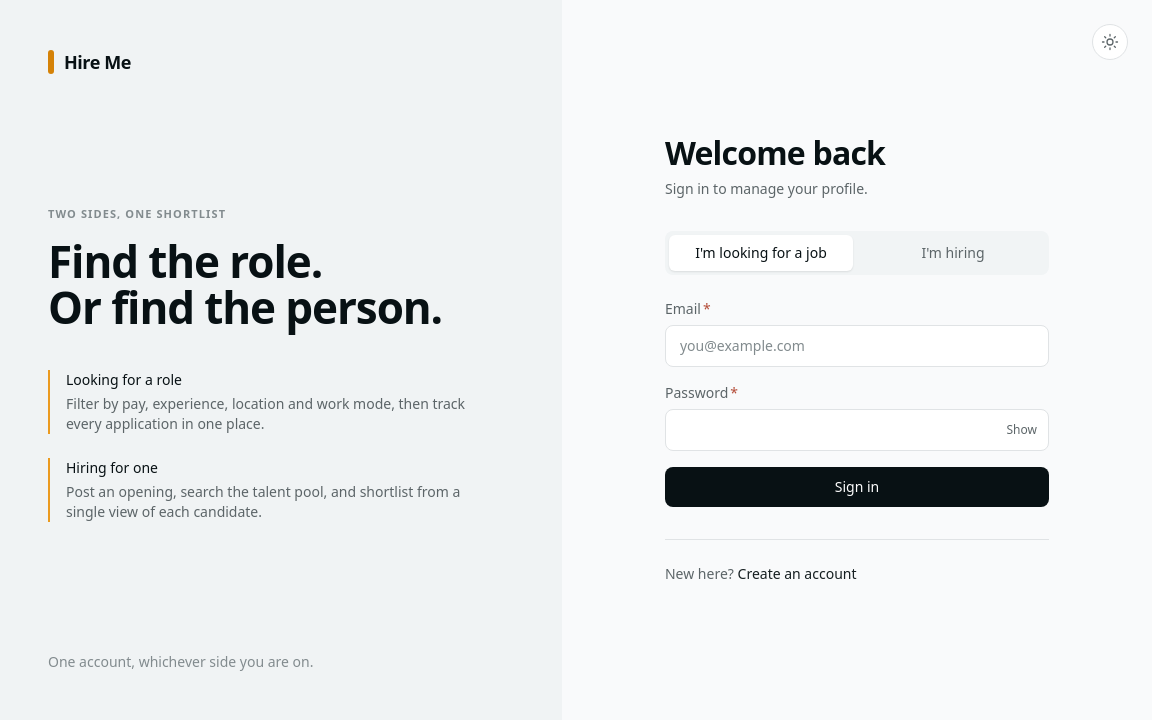
Scenario: sign-in screen › clears a failed attempt when the account type is switched
Check: the heading "Welcome back" is shown, box [665,130,885,174]
In the field labelled "Email*": (857, 346) [665,324,1049,366], type "grace@acme.test"
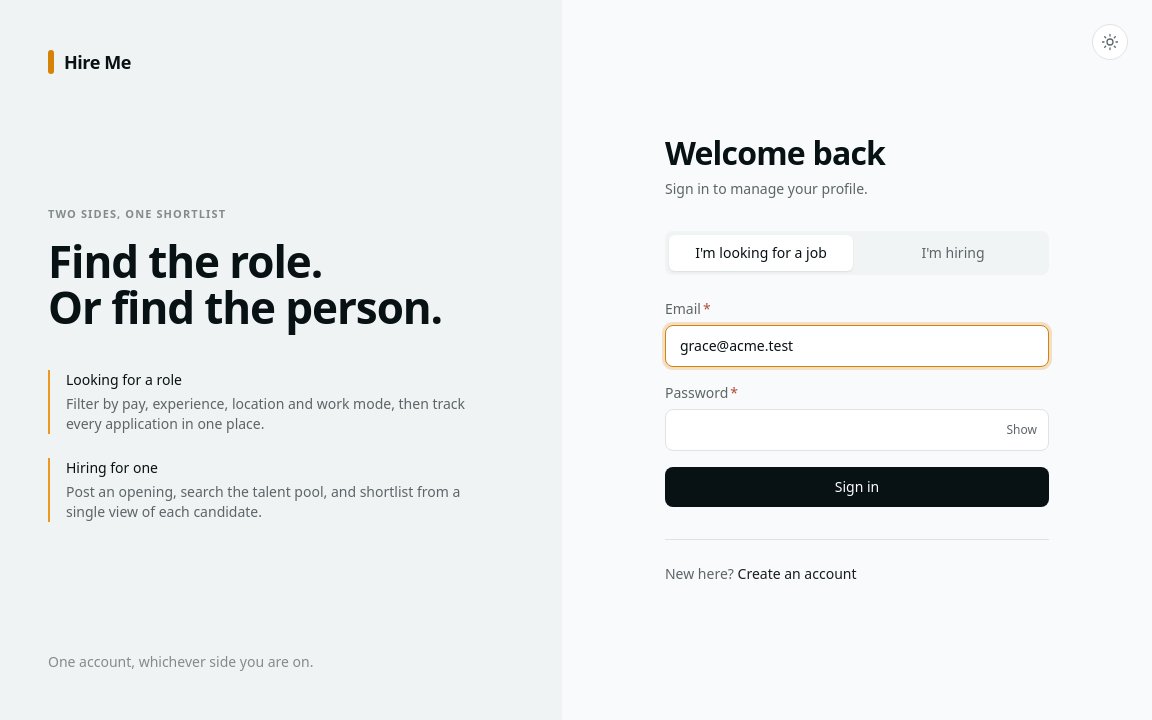
In the password field labelled "Password*": (857, 430) [665,408,1049,450], type "Str0ng!pass"
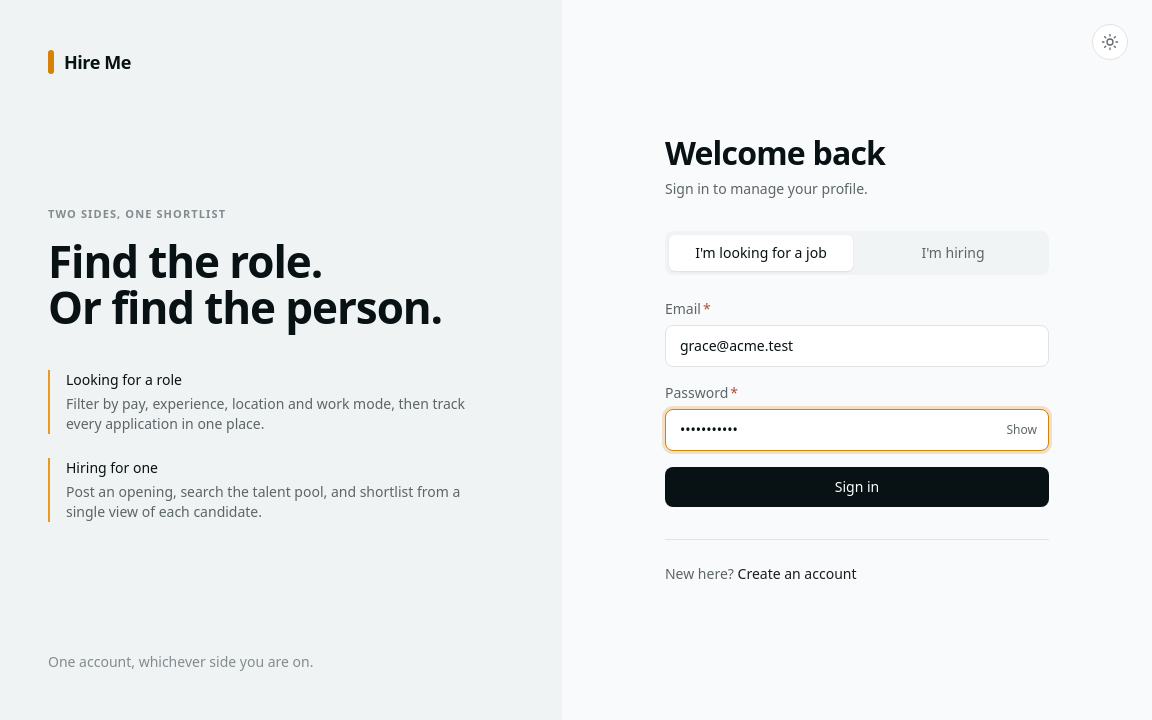
Click the button "Sign in": click(857, 486) [665,466,1049,506]
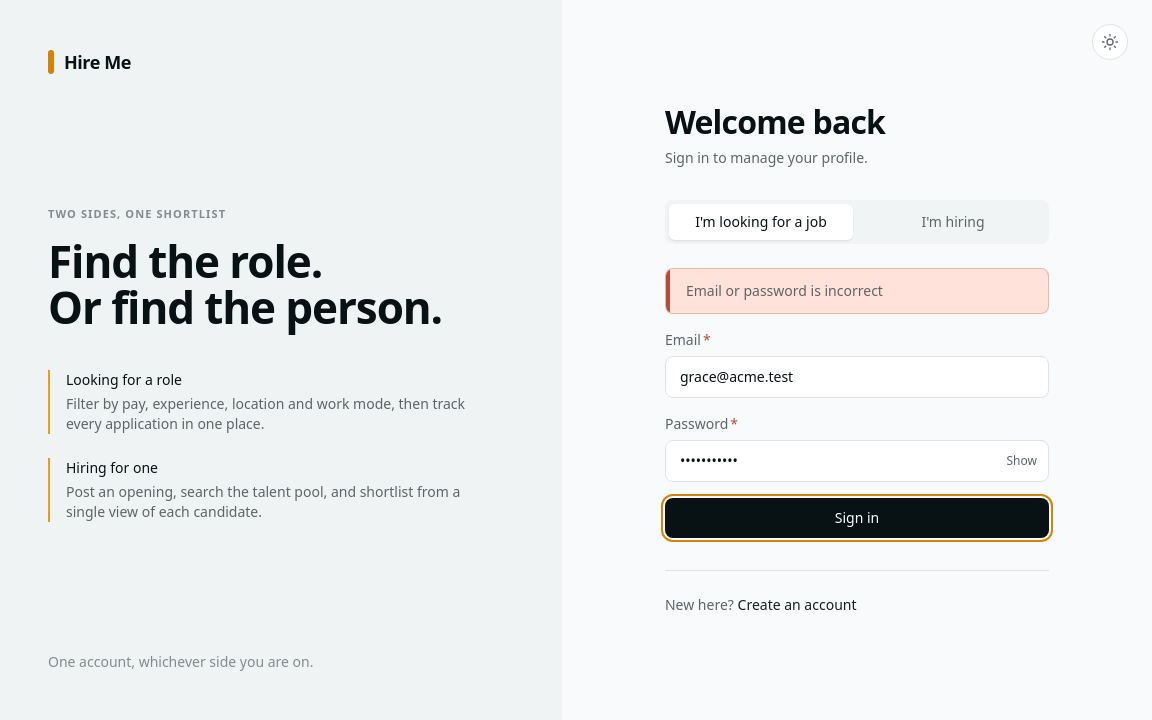
Check: the message reads "Email or password is incorrect", box [686,280,883,300]
Click the tab "I'm hiring": click(953, 222) [861,204,1045,240]
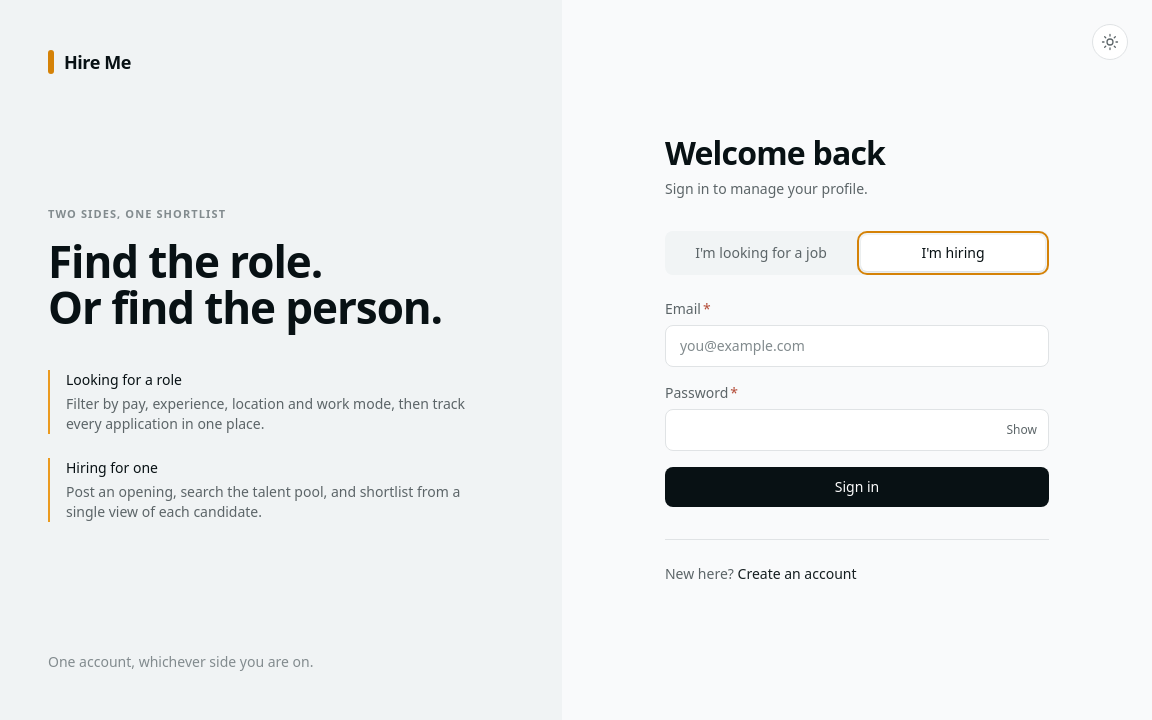
Check: the message "Email or password is incorrect" is gone
